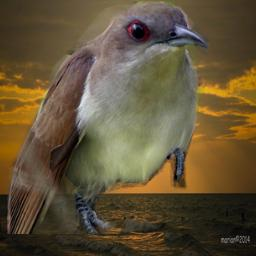Cuckoo: (7, 1, 209, 234)
